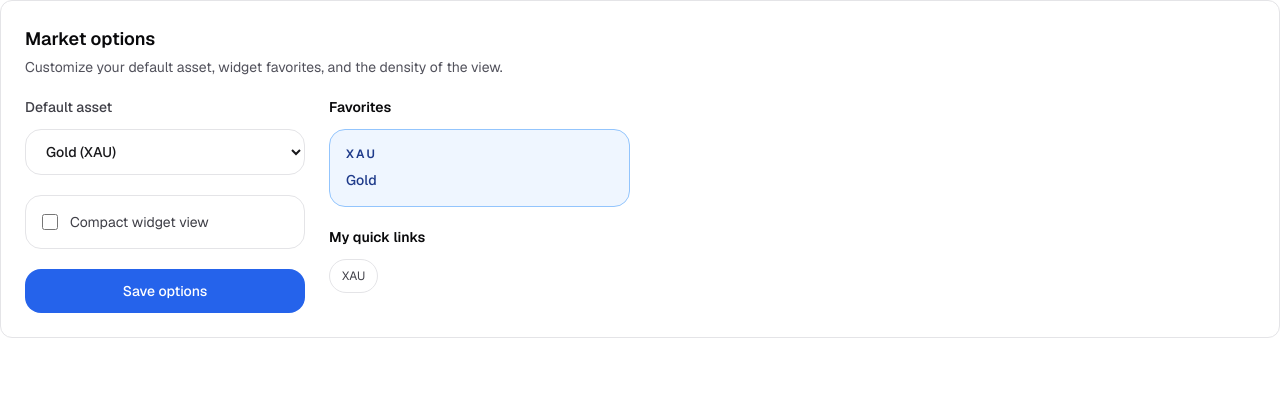
MarketProfileWidget › shows save errors after a successful load
Expected: the heading "Market options" is shown, [25,27,155,50]
Click the button "Save options": point(165, 291) [25,269,305,313]
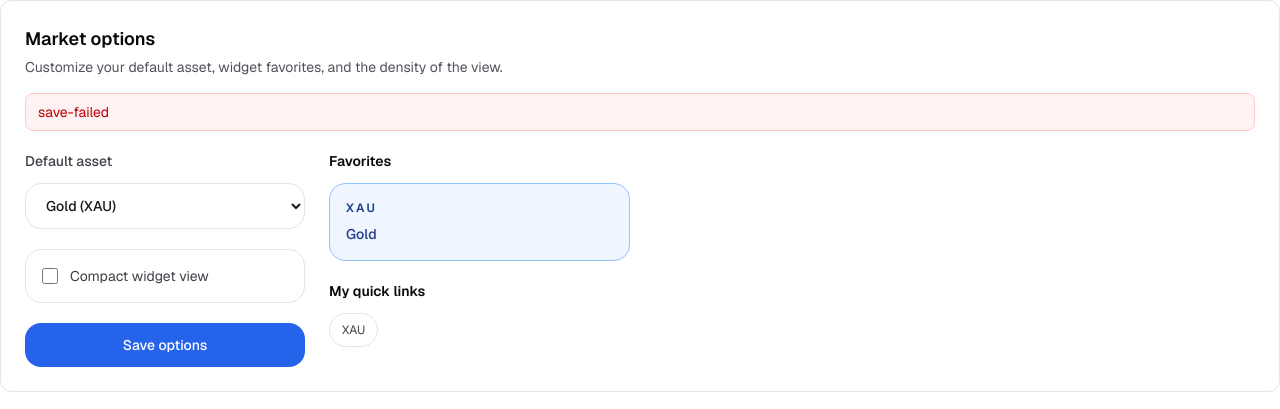
Result: the text "save-failed" is shown at [25,93,1255,131]
